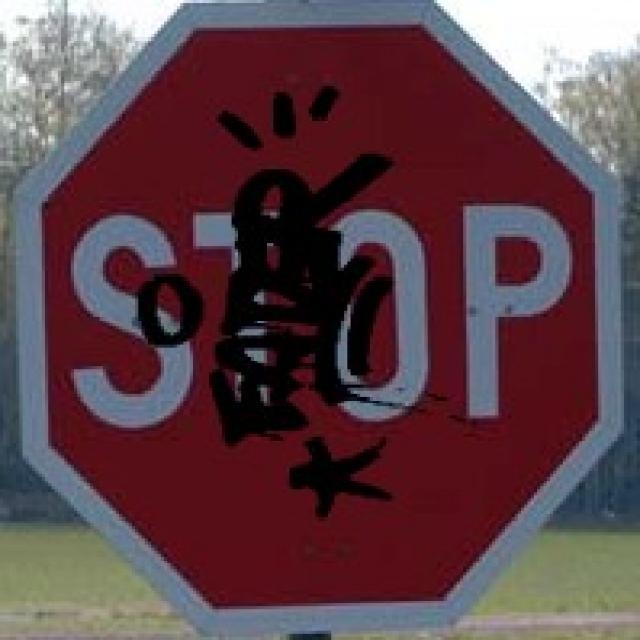Stop-Sign: (39, 63, 590, 582)
